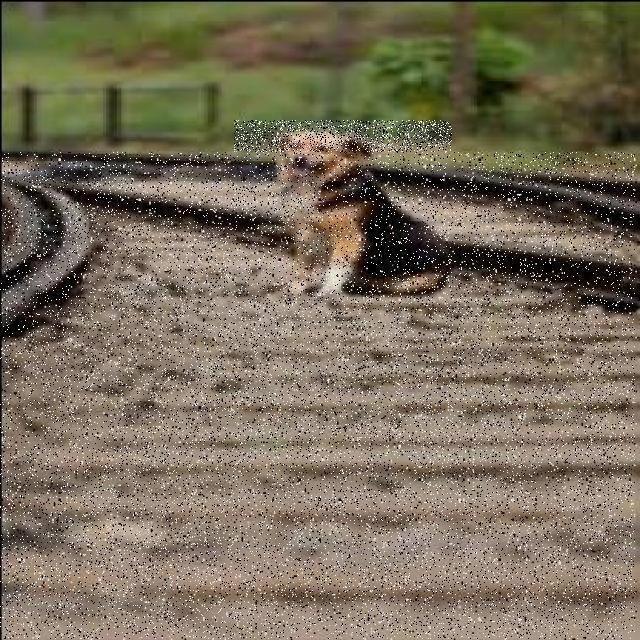rail: (1, 153, 636, 640)
